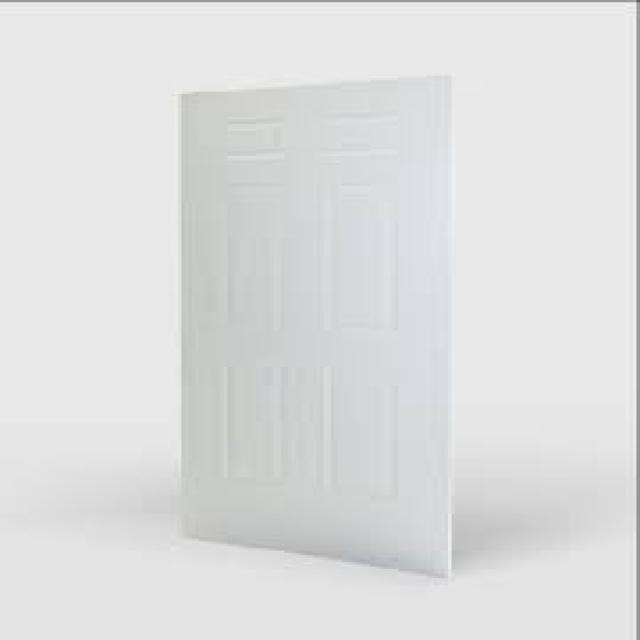door: (178, 74, 455, 577)
